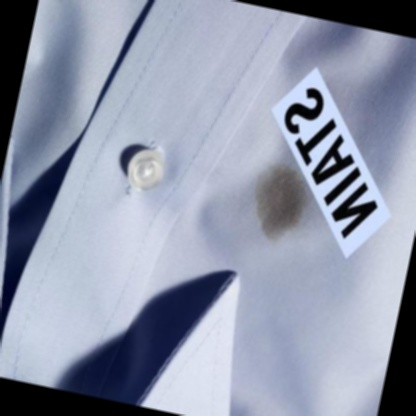coffee: (247, 166, 314, 242)
